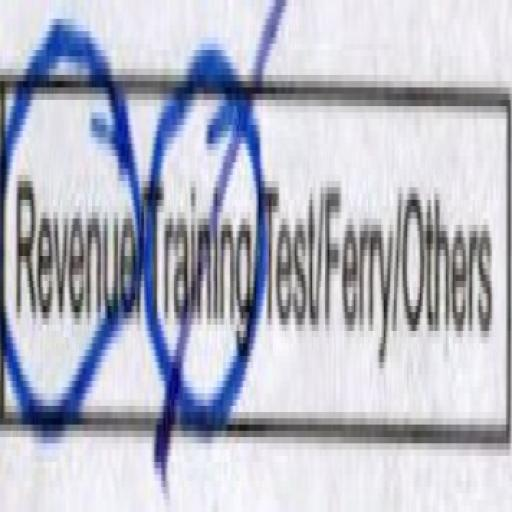check: (0, 0, 141, 512), (144, 2, 266, 512)
